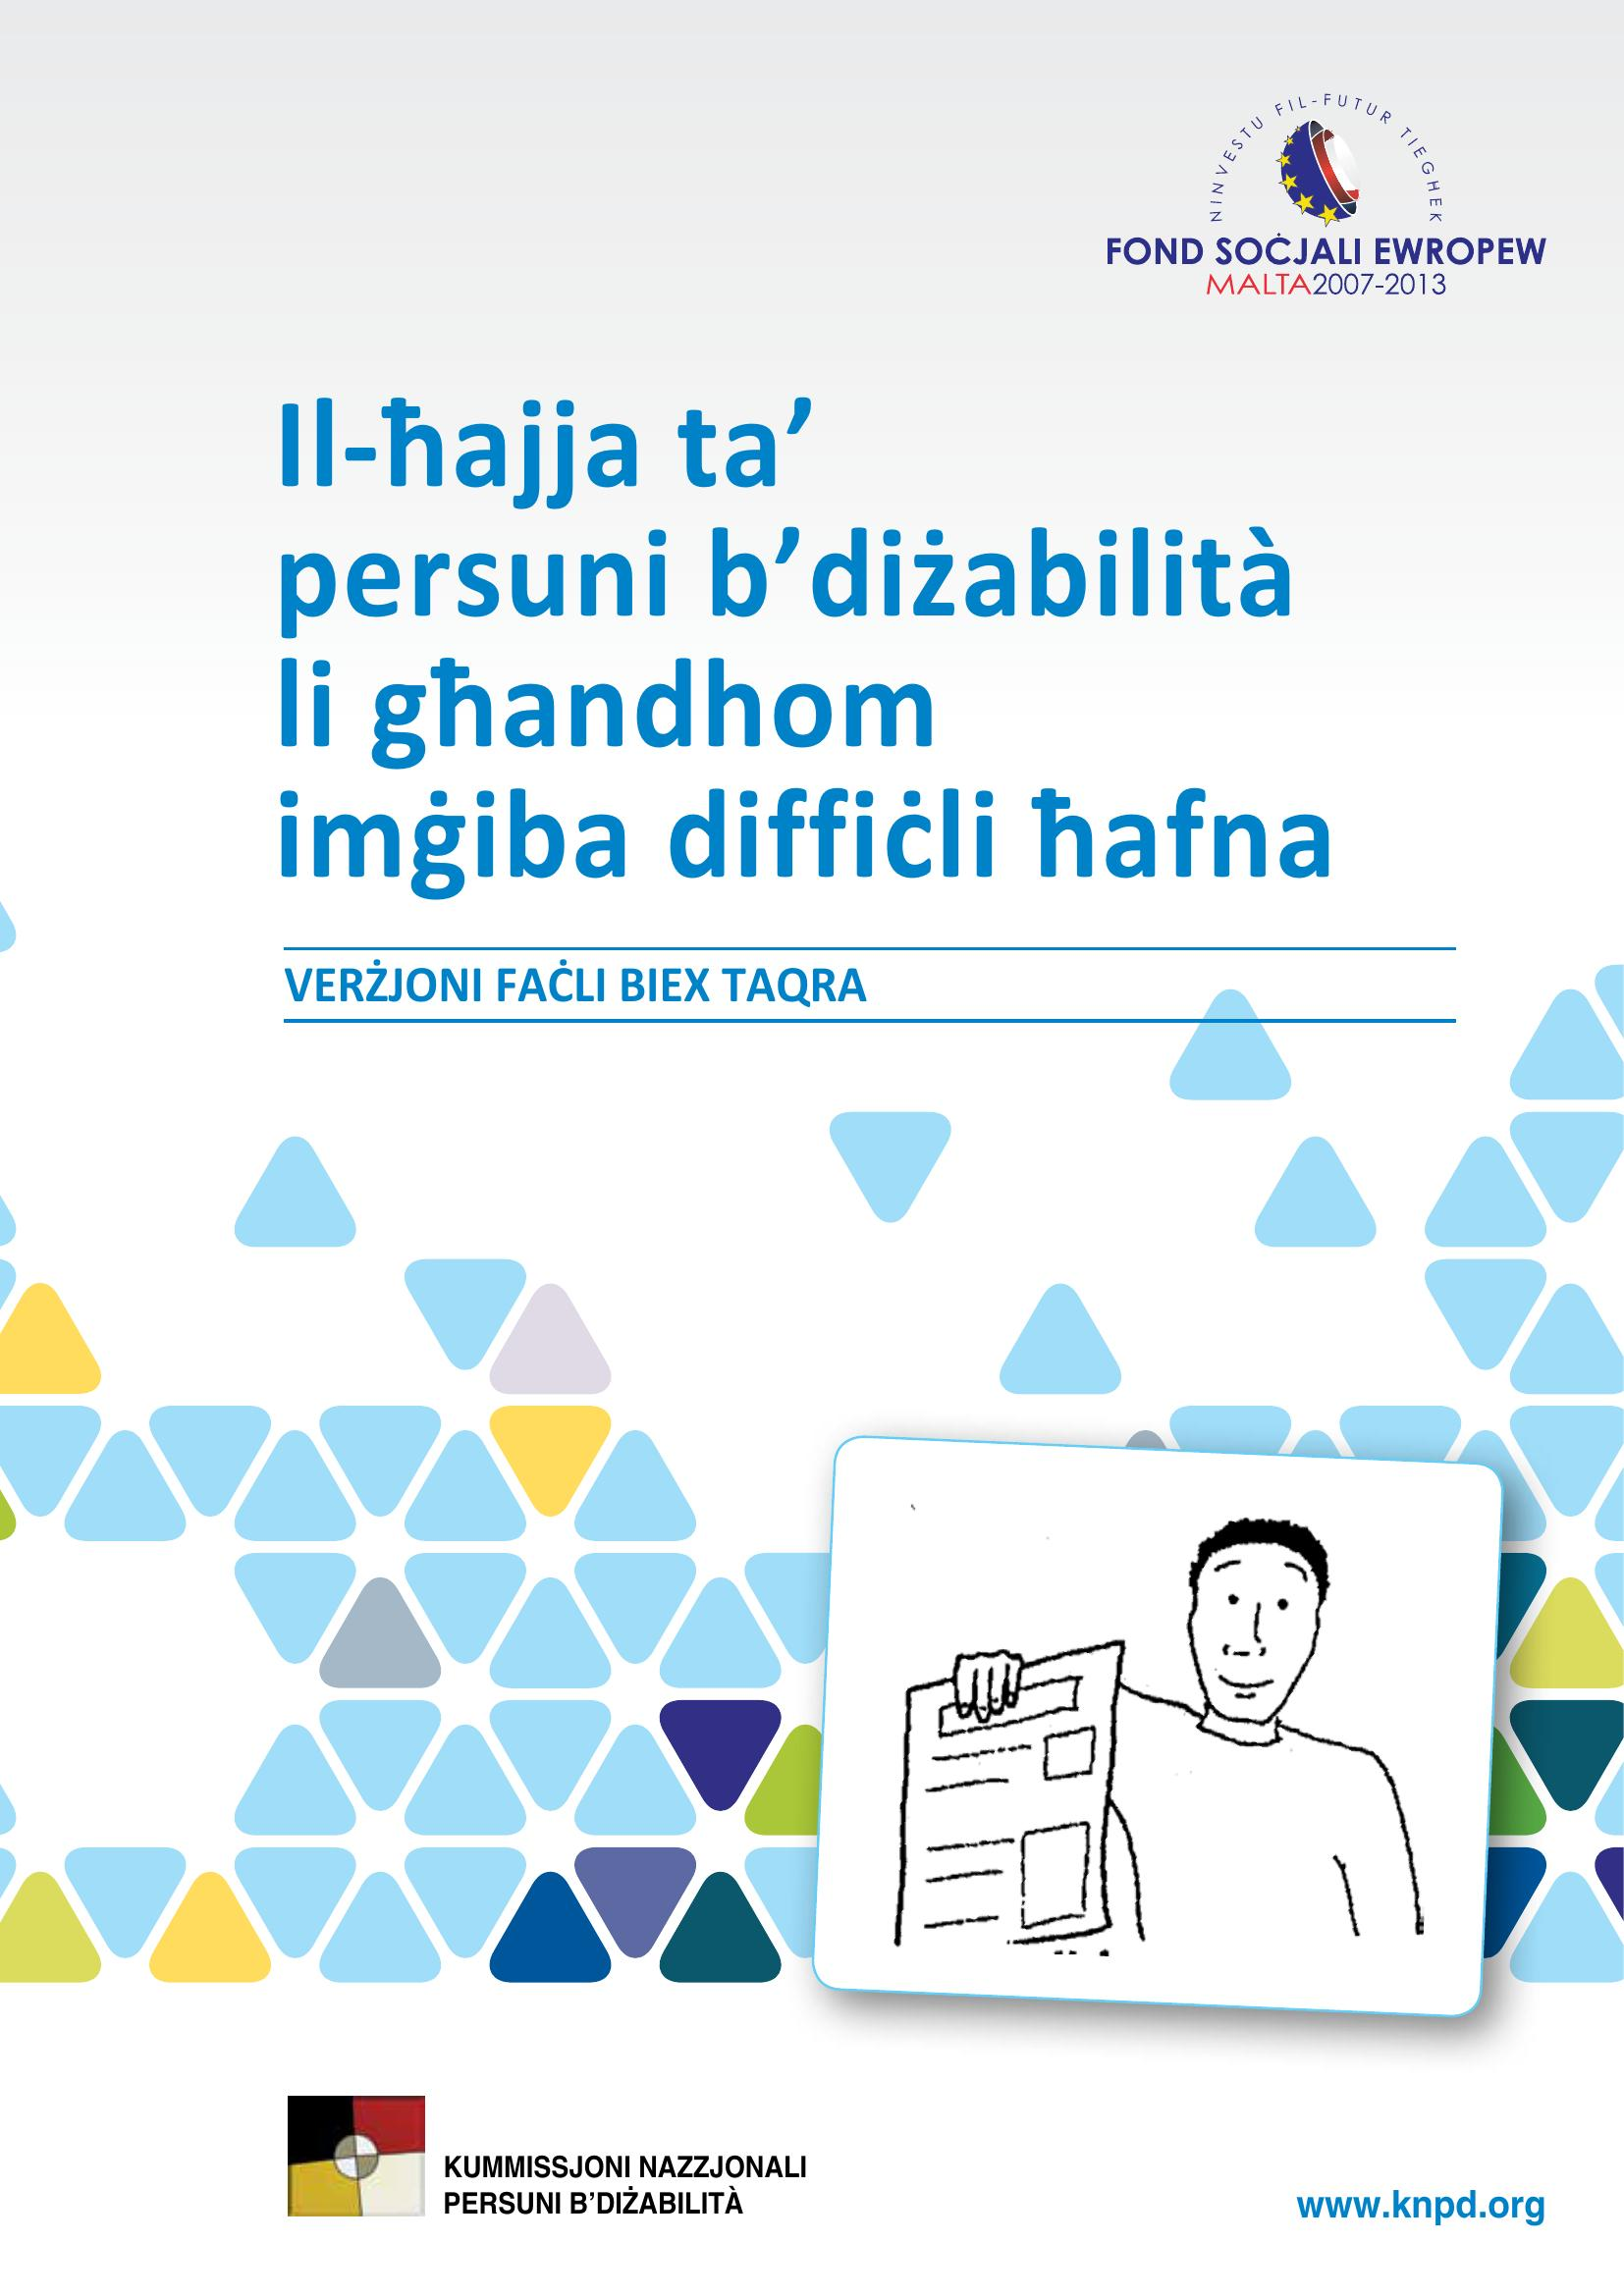text: (253, 355, 1392, 1036)
